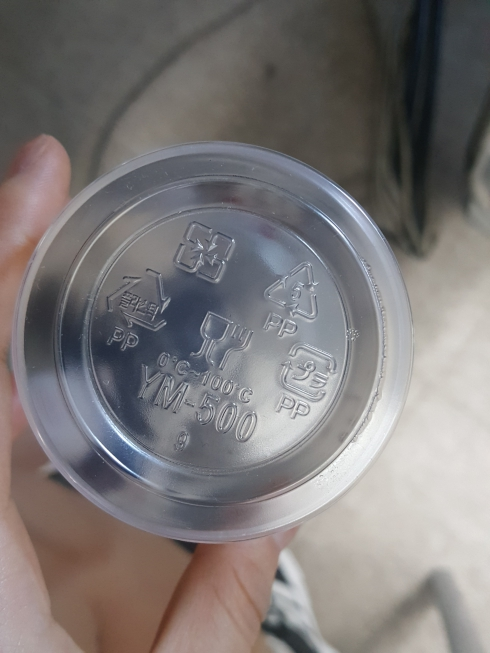recycle: (261, 242, 319, 345)
